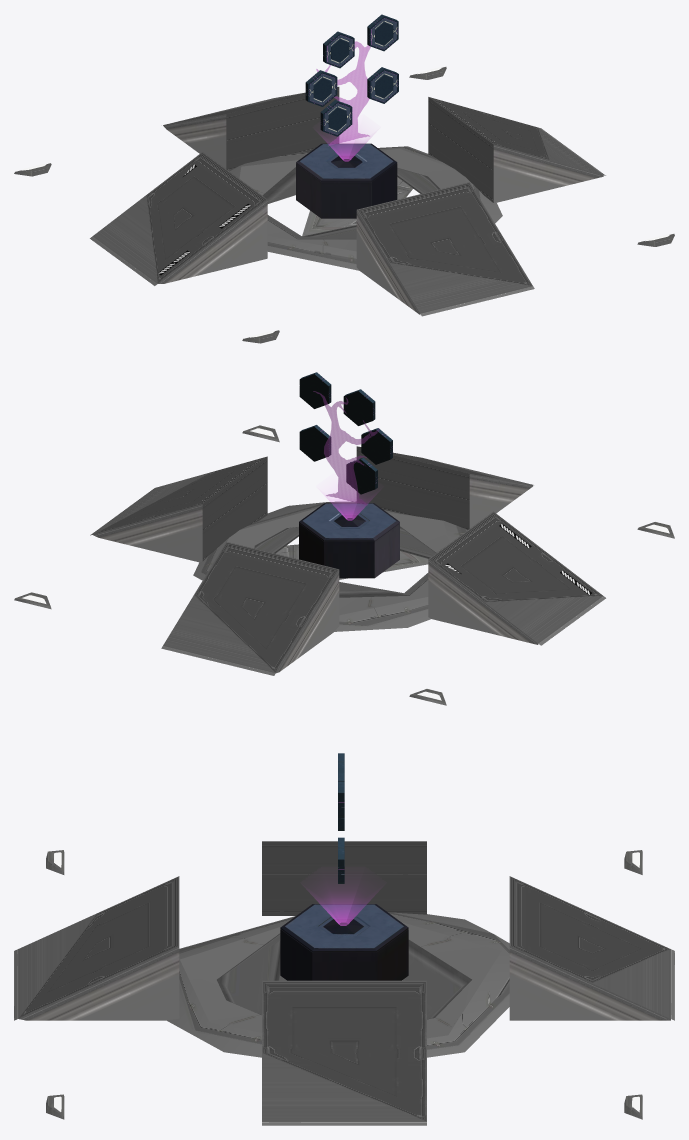
File: sc-teleport-lod1.glb
3 renders of one model, top to bottom at view 1: azimuth 30°, elevation 25°; view 2: azimuth 150°, elevation 25°; view 3: azimuth 270°, elevation 25°, orthographic. The views are drawn at different scales.
Parts seen in each view (by area): view 1: sc-teleport; view 2: sc-teleport; view 3: sc-teleport.
Part boxes in pixels (<box>): sc-teleport: <box>14,14,674,343</box>; sc-teleport: <box>14,372,674,705</box>; sc-teleport: <box>14,753,674,1125</box>.
Bounding box in the file's own units: 16 × 6.25 × 16.
7 materials, 6 textured.
